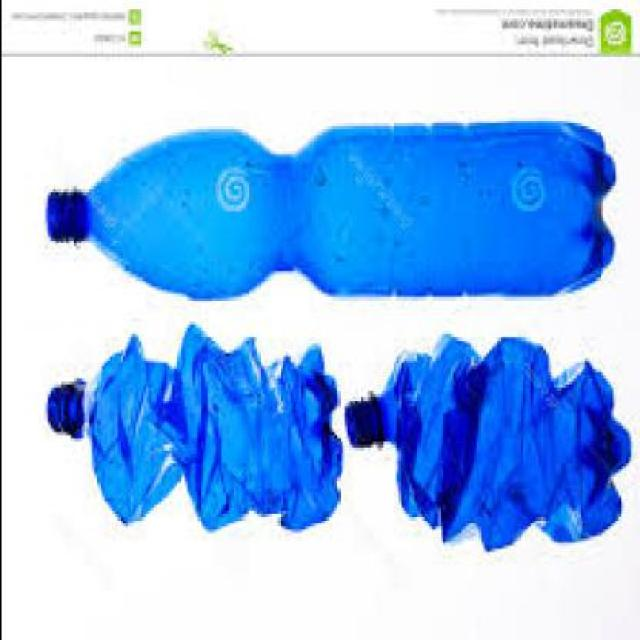PLASTIC: (42, 126, 610, 303), (341, 337, 627, 555), (44, 332, 336, 536)
